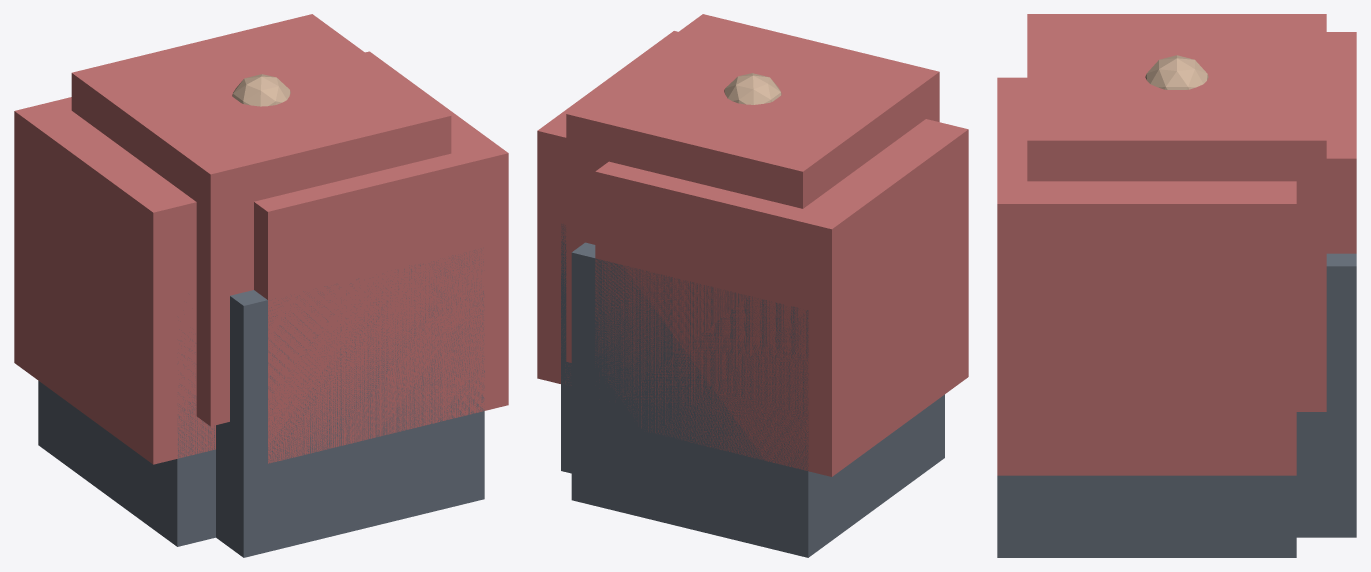
File: hum_pedestrian_red.glb
The picture shows the model from 3 angles, left to right: view 1: azimuth 30°, elevation 25°; view 2: azimuth 150°, elevation 25°; view 3: azimuth 270°, elevation 25°; orthographic projection. The views are drawn at different scales.
Visible parts, largest first — view 1: world; view 2: world; view 3: world.
Boxes of the visible parts, x1,y1,x2,y2 form: world: (14, 14, 508, 557); world: (537, 14, 968, 557); world: (997, 14, 1356, 557).
Bounding box in the file's own units: 1.36 × 1.57 × 1.2.
